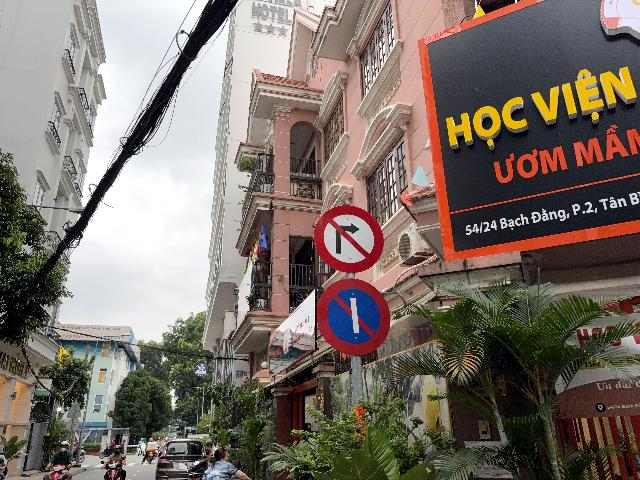cam-do-xe-ngay-le: (316, 277, 391, 356)
cam-re-phai: (315, 205, 385, 272)
